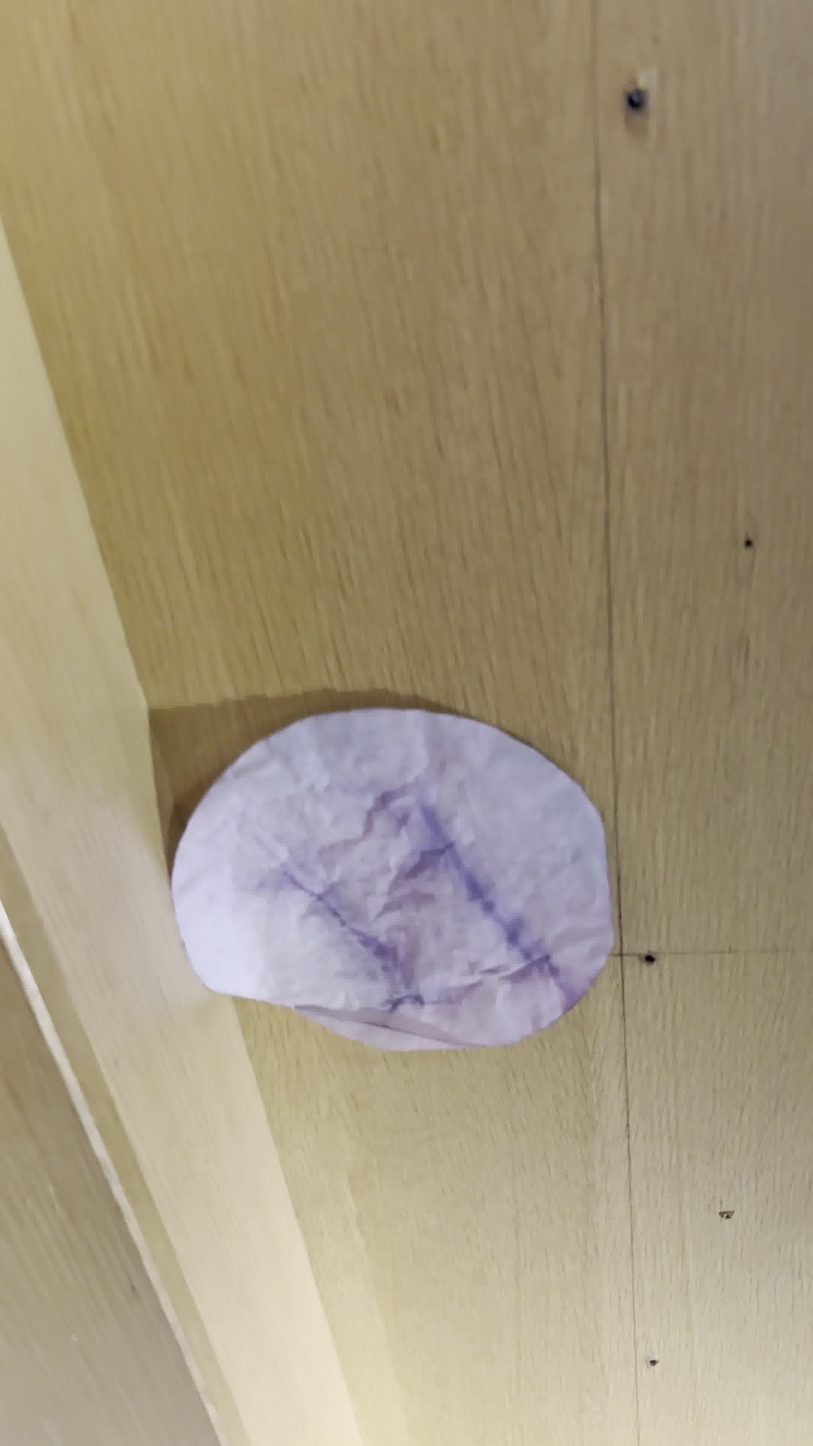Target: (169, 709, 613, 1053)
